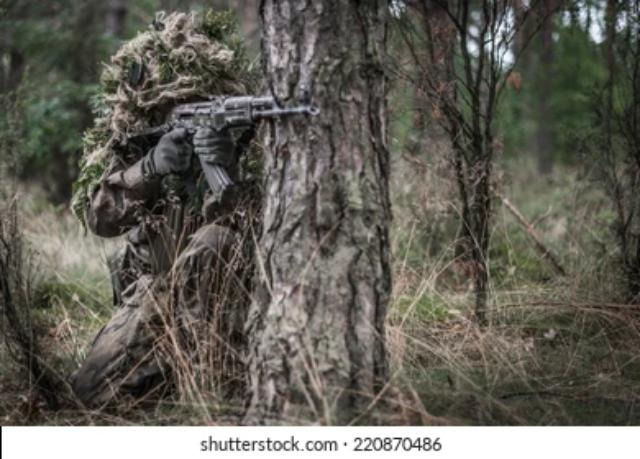other: (76, 19, 236, 318)
